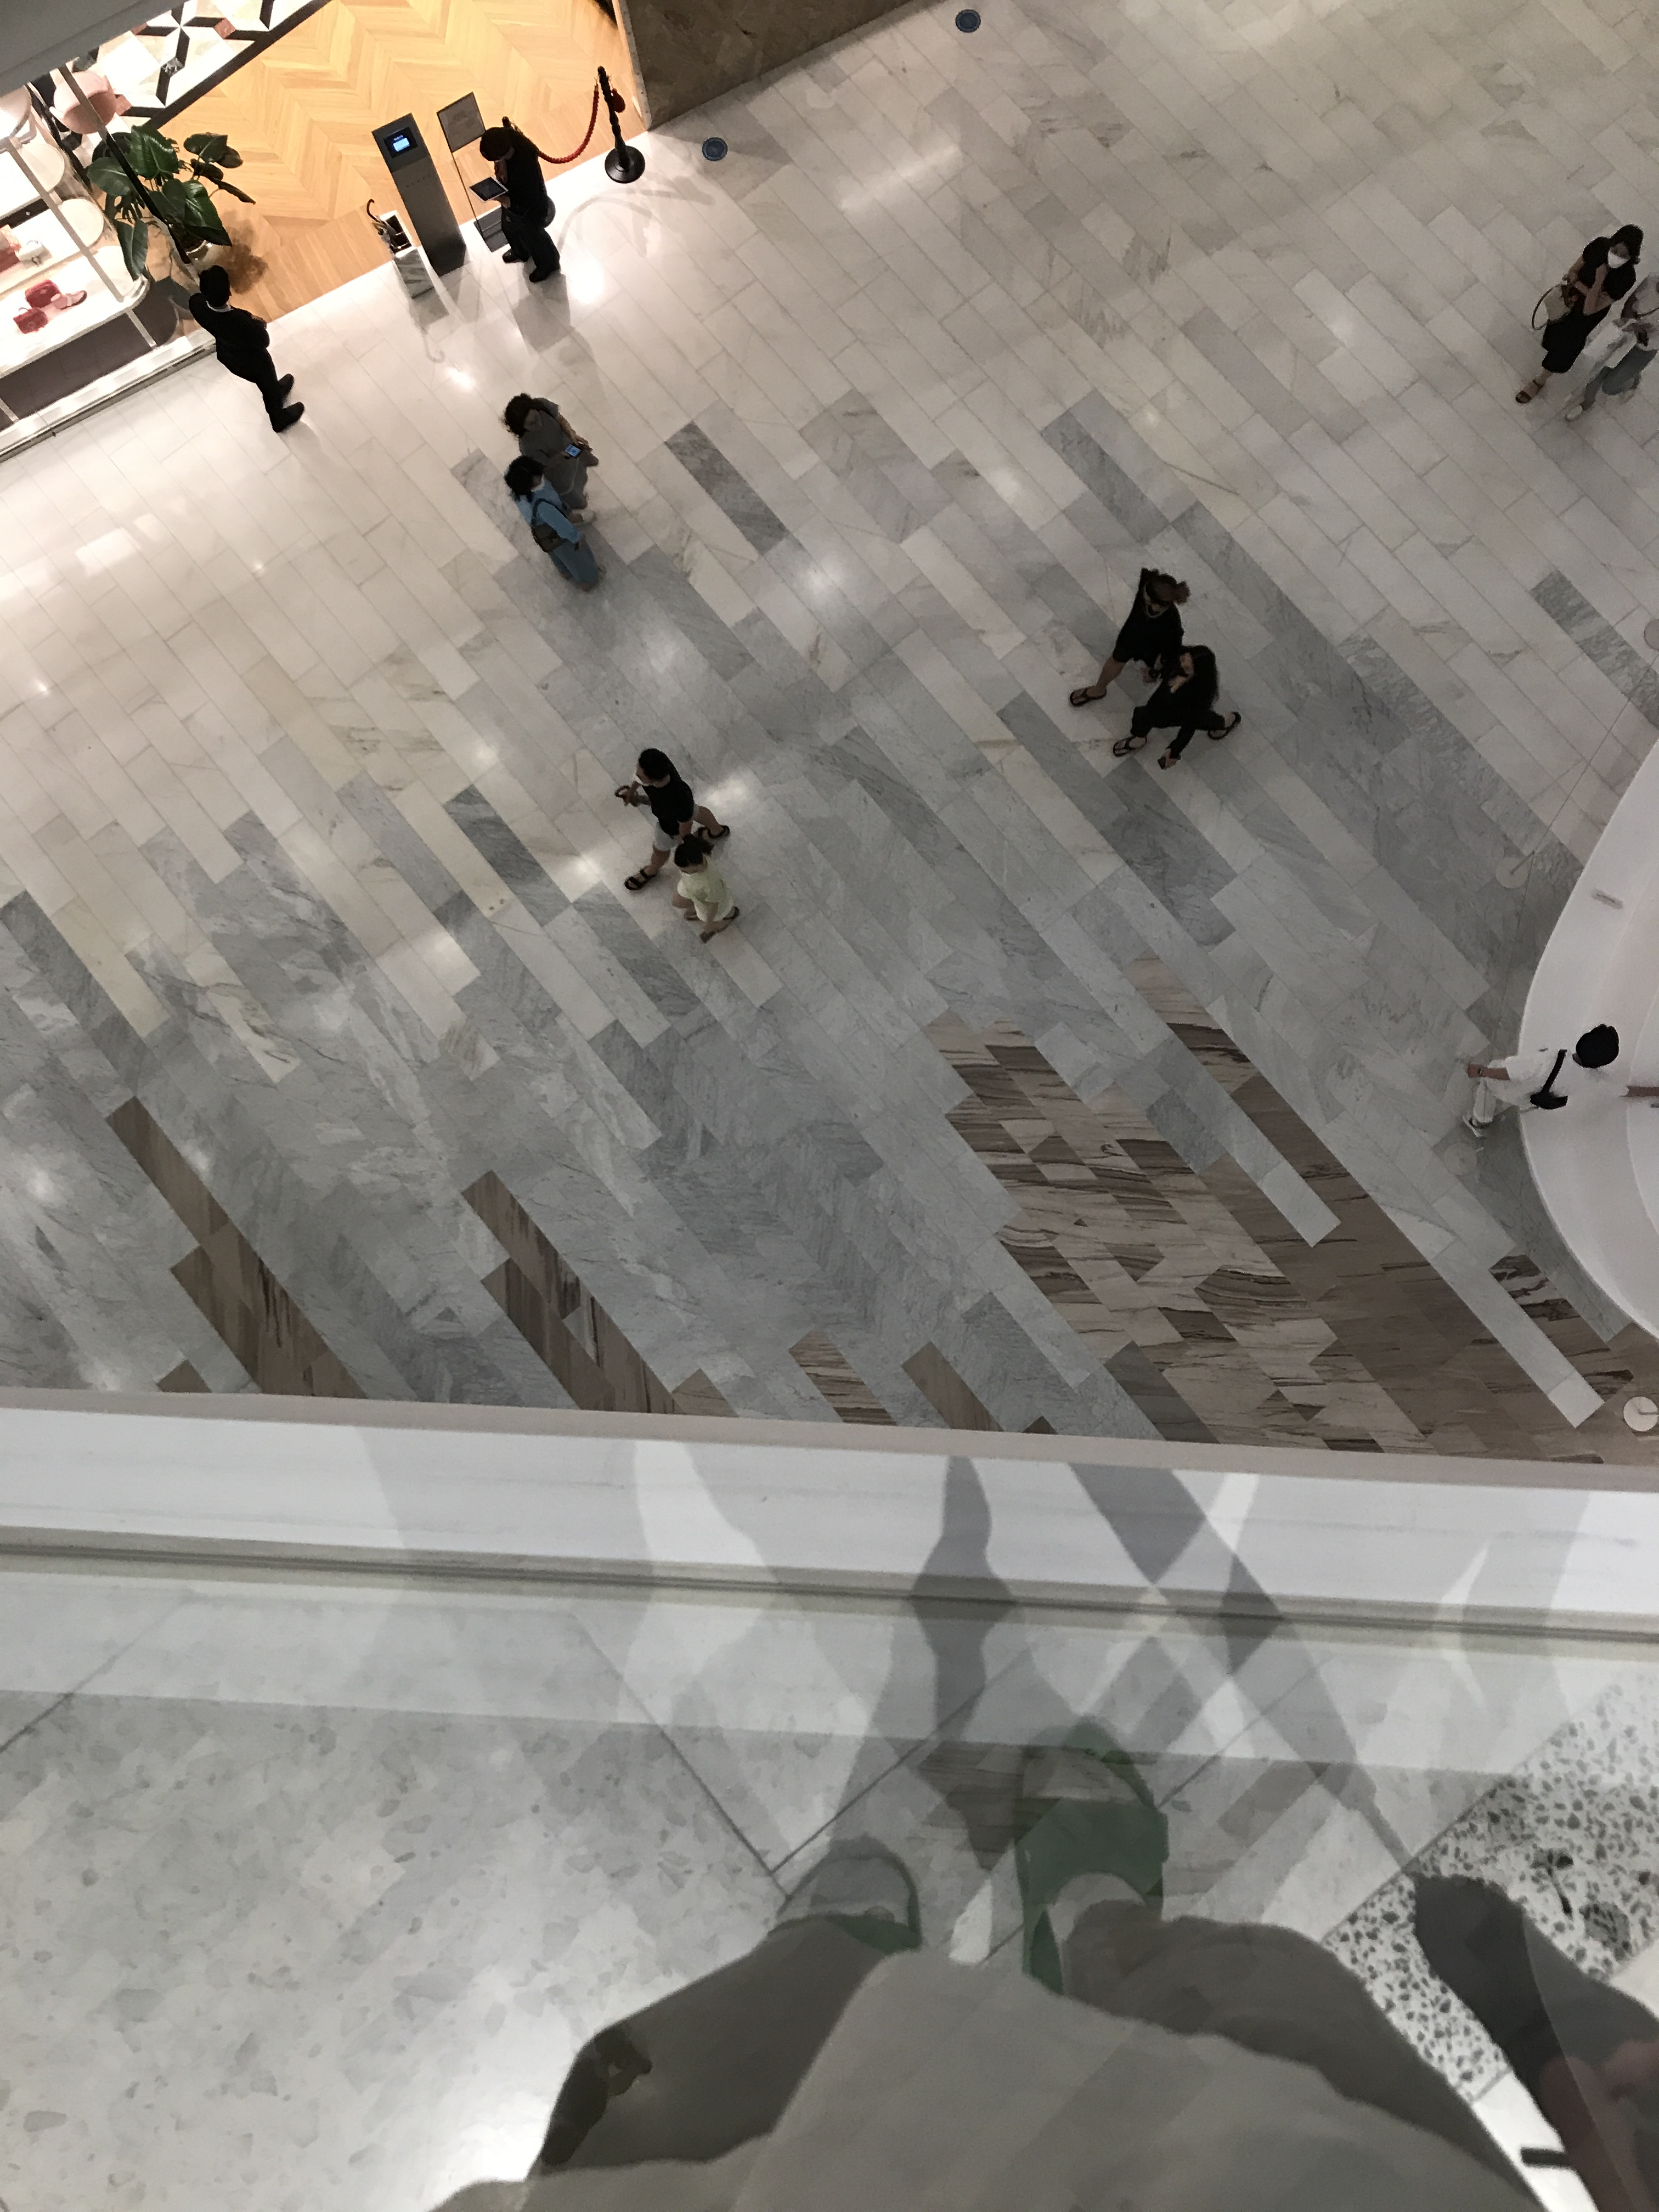person: (1516, 221, 1645, 409), (1462, 1023, 1659, 1141), (187, 264, 307, 435), (1066, 566, 1190, 710), (1109, 644, 1241, 771), (616, 748, 733, 890), (1561, 274, 1659, 424), (503, 458, 607, 595), (499, 392, 597, 527), (481, 125, 562, 285), (669, 833, 741, 944)
